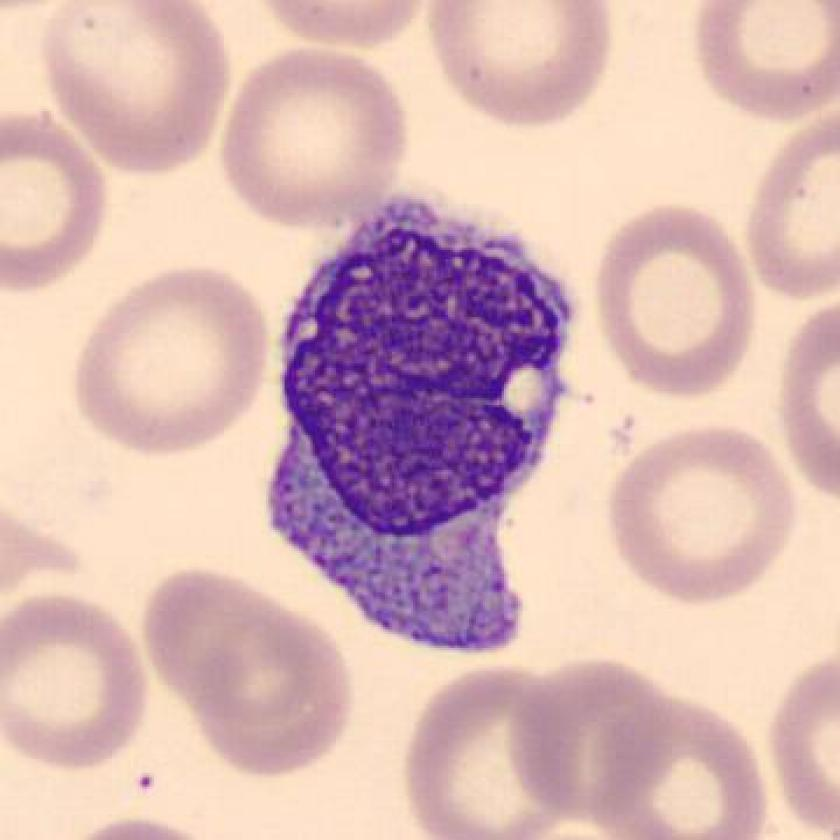monocyte: (244, 170, 594, 672)
